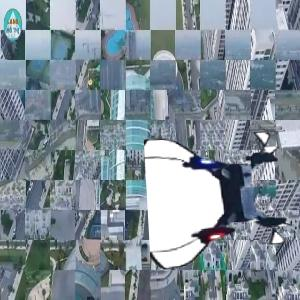drone: (148, 125, 293, 270)
